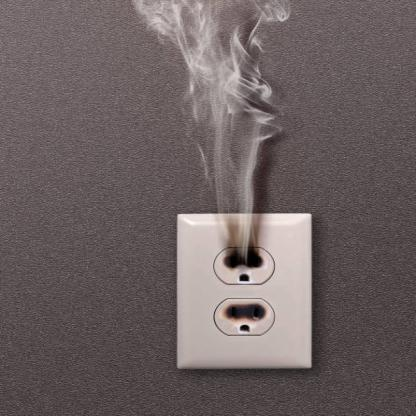smoke: (131, 4, 294, 271)
